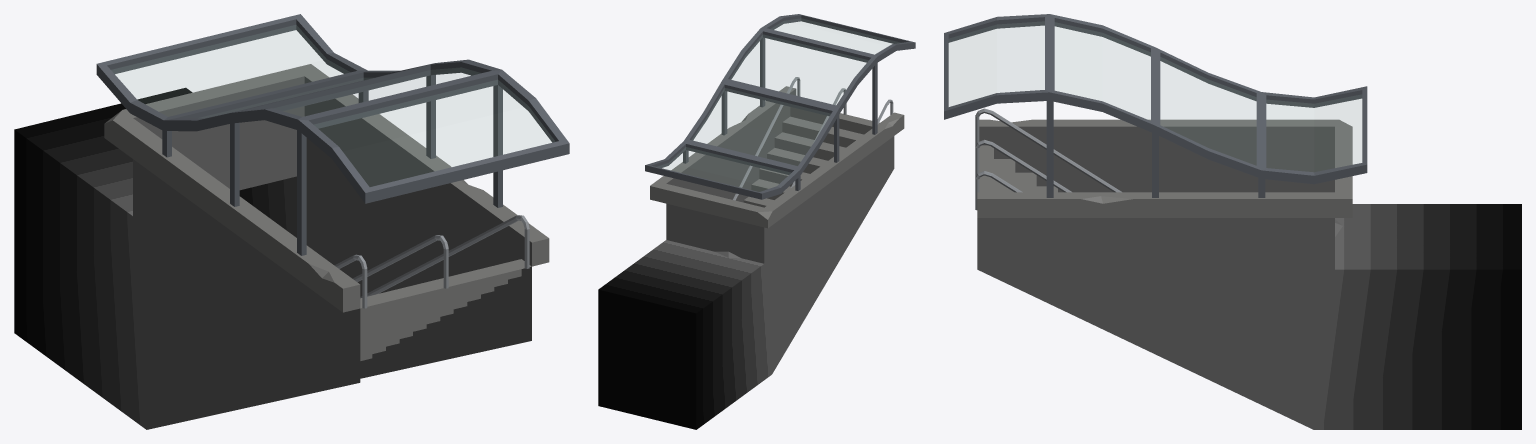
The model's file is SM_Env_SubwayEntrance_01.fbx.
The picture shows the model from 3 angles, left to right: view 1: azimuth 30°, elevation 25°; view 2: azimuth 150°, elevation 25°; view 3: azimuth 270°, elevation 25°; orthographic projection. The views are drawn at different scales.
Visible parts, largest first — view 1: SM_Env_SubwayEntrance_01, SM_Env_SubwayEntrance_01_Glass; view 2: SM_Env_SubwayEntrance_01, SM_Env_SubwayEntrance_01_Glass; view 3: SM_Env_SubwayEntrance_01, SM_Env_SubwayEntrance_01_Glass.
Boxes of the visible parts, bbox=[...] form: SM_Env_SubwayEntrance_01: bbox=[14, 14, 569, 429]; SM_Env_SubwayEntrance_01_Glass: bbox=[112, 25, 554, 186]; SM_Env_SubwayEntrance_01: bbox=[598, 14, 915, 429]; SM_Env_SubwayEntrance_01_Glass: bbox=[659, 19, 898, 191]; SM_Env_SubwayEntrance_01: bbox=[944, 14, 1521, 429]; SM_Env_SubwayEntrance_01_Glass: bbox=[949, 22, 1361, 171].
Size of the model in its own units: 500 by 1011 by 1540.
